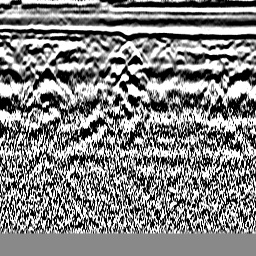cavity: (114, 40, 143, 63)
